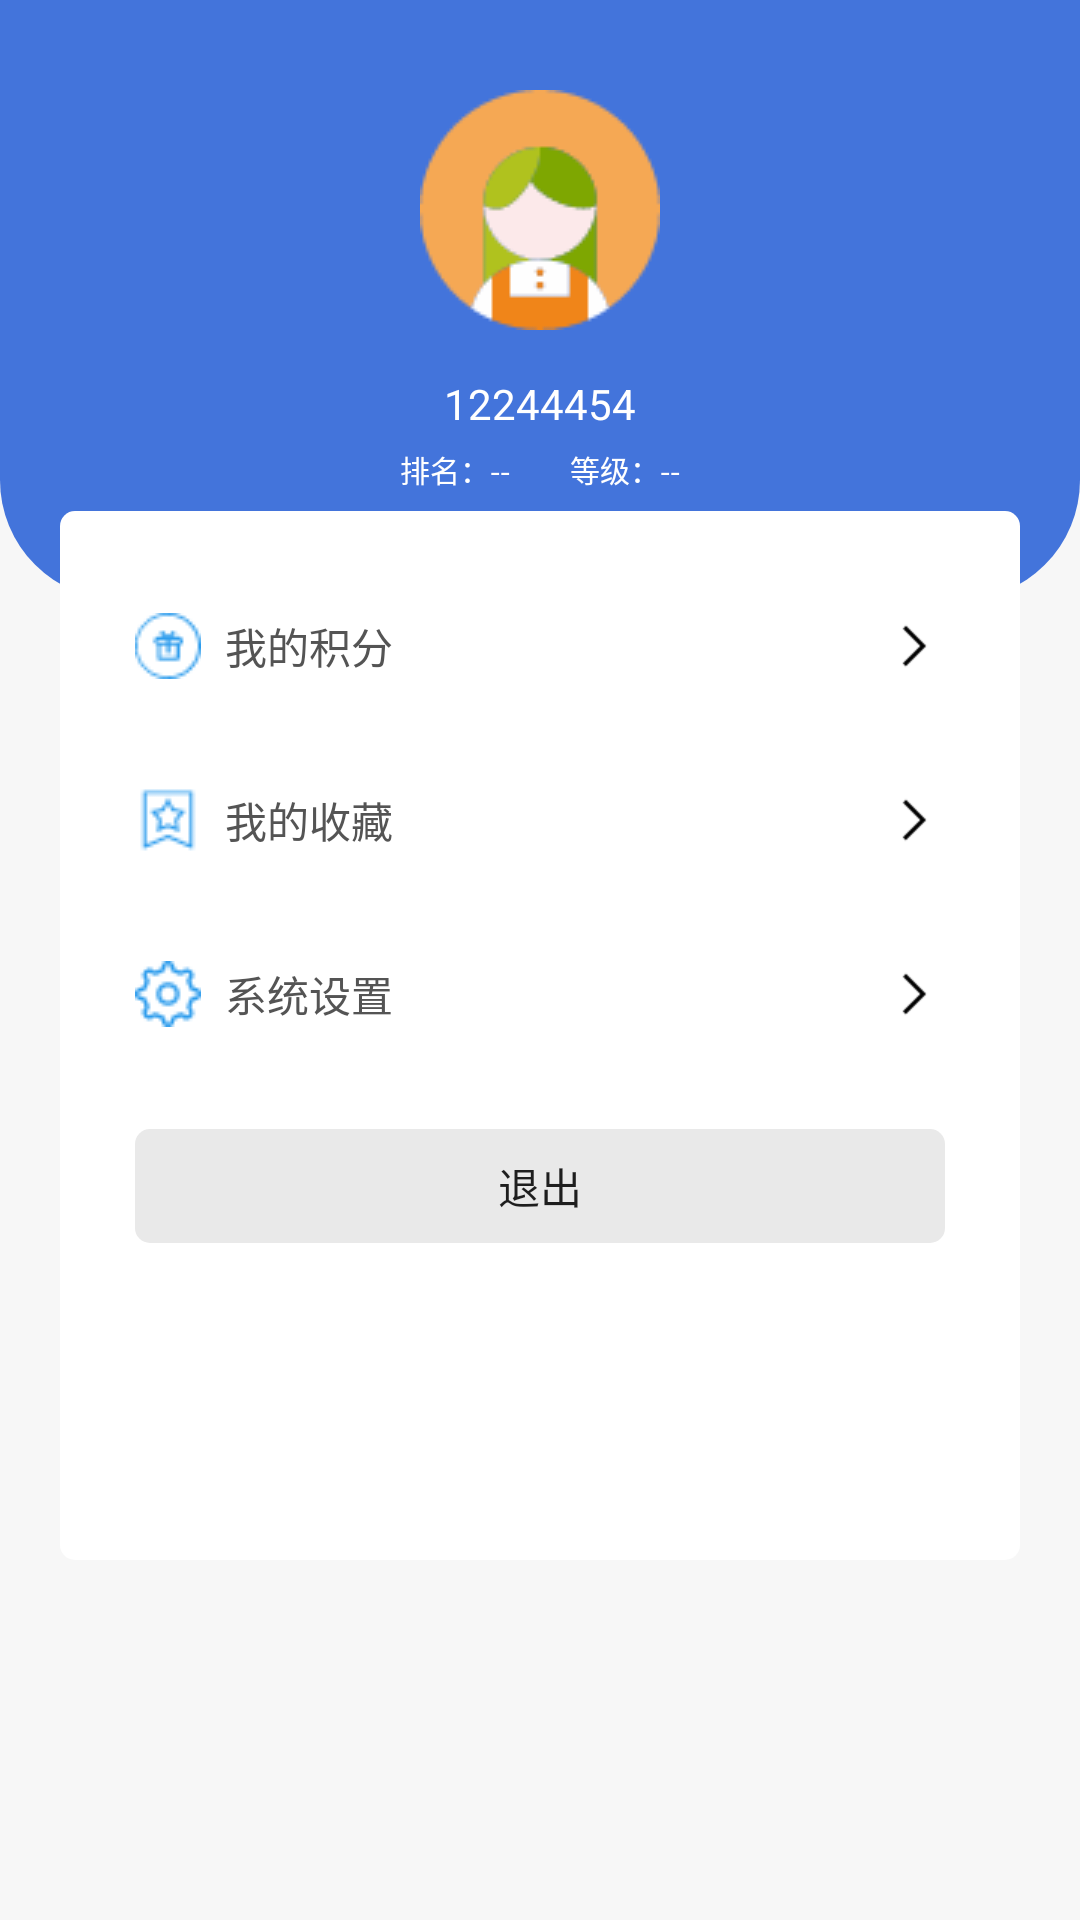

Icons on this 1080 × 1920 Android screen, each with the point to tap as (x=x, y=y):
arrow: (x=914, y=646), (x=914, y=820), (x=914, y=994)
